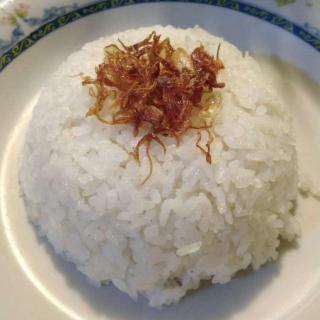Nasi: (17, 23, 304, 310)
